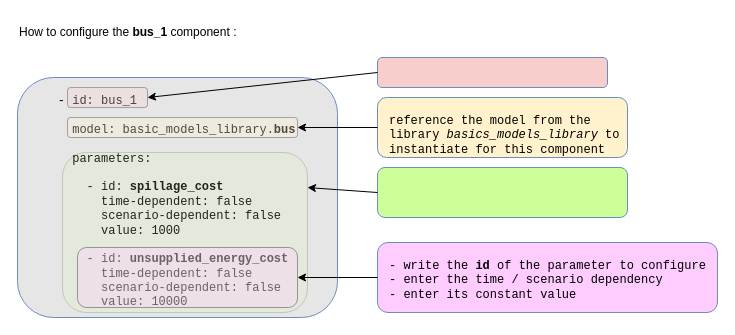
The diagram is 735 pixels wide and 335 high, and some of its shapes have lost their labels. The box of each missing label's shape, as (x1, y1, x2, y2) in pixels:
in the parameters section, each parameter is configured: (376, 166, 628, 218)
write the id of the component: (376, 56, 608, 88)
